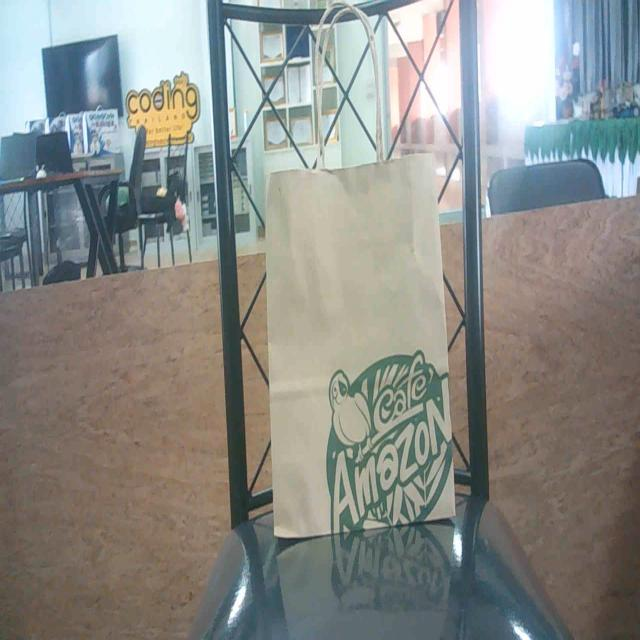bag: (259, 161, 457, 528)
